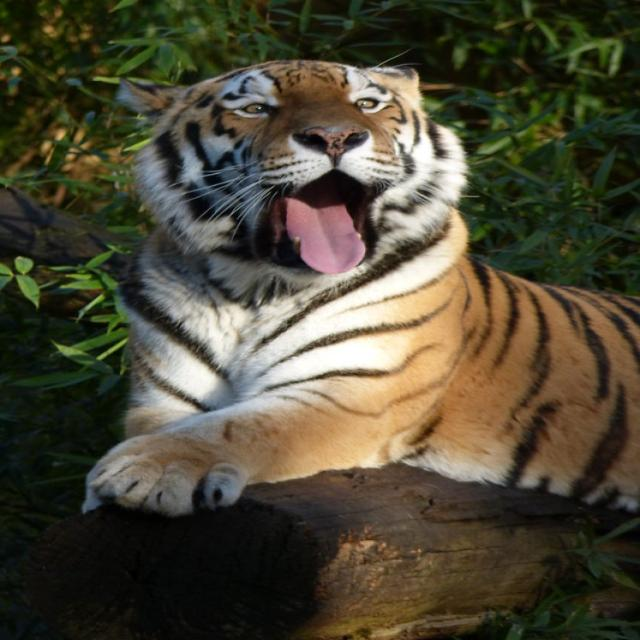Tiger: (76, 59, 638, 522)
